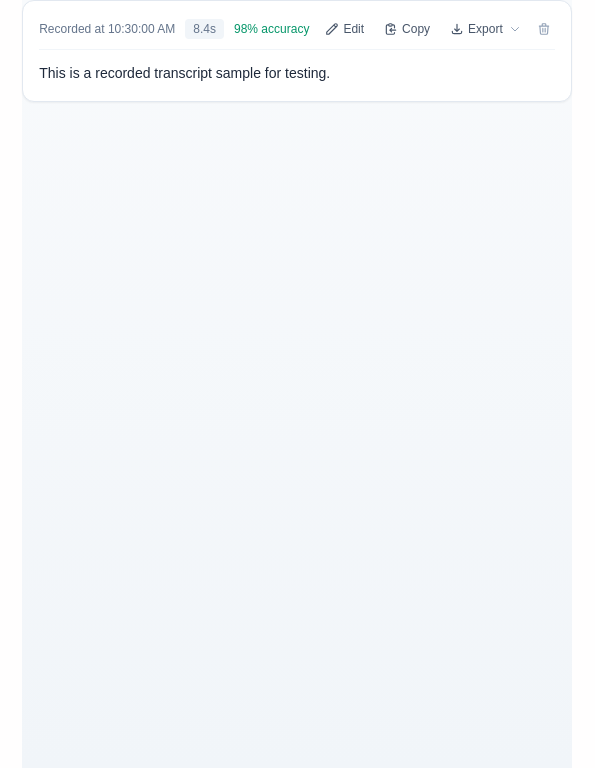
Test: TranscriptionItem Component › copies transcript text to clipboard and shows temporary Copied feedback
The width and height of the screenshot is (595, 768).
What coordinates should you click on to do the following:
click the button with aria-label "copy transcript text to clipboard"
I would click on:
 (407, 29)
Its box is [376,17,438,41].
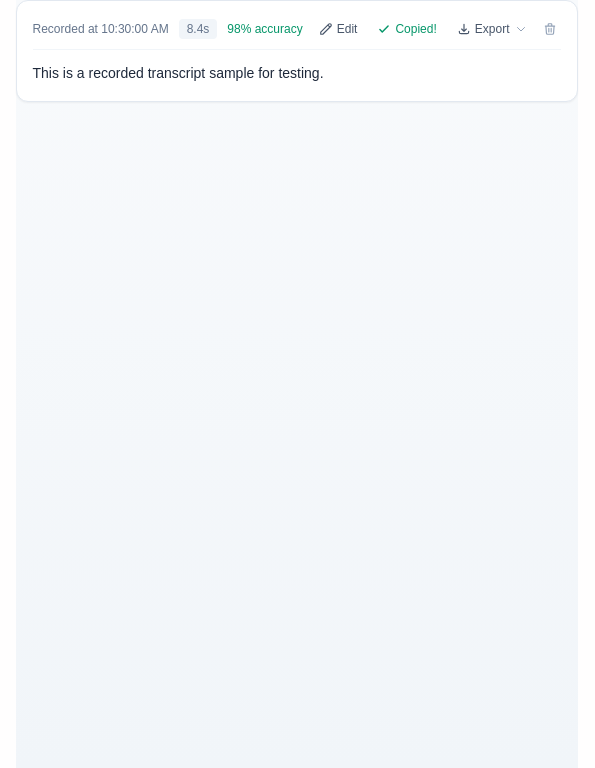
Result: the text "Copied!" is shown at [395,21,437,37]
